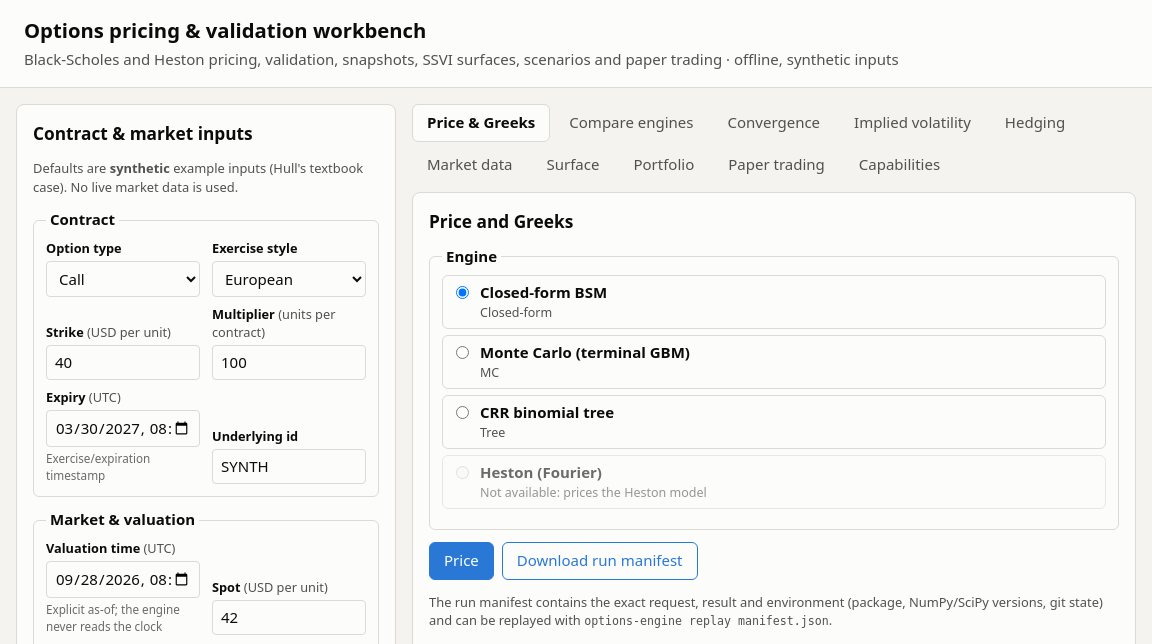
Test case: App › blocks submission on invalid input
The image size is (1152, 644).
Check: the text "Closed-form BSM" is shown, box [480,282,607,302]
Clear the field labelled "Strike (USD per unit)": x=123, y=362 [46,344,200,380]
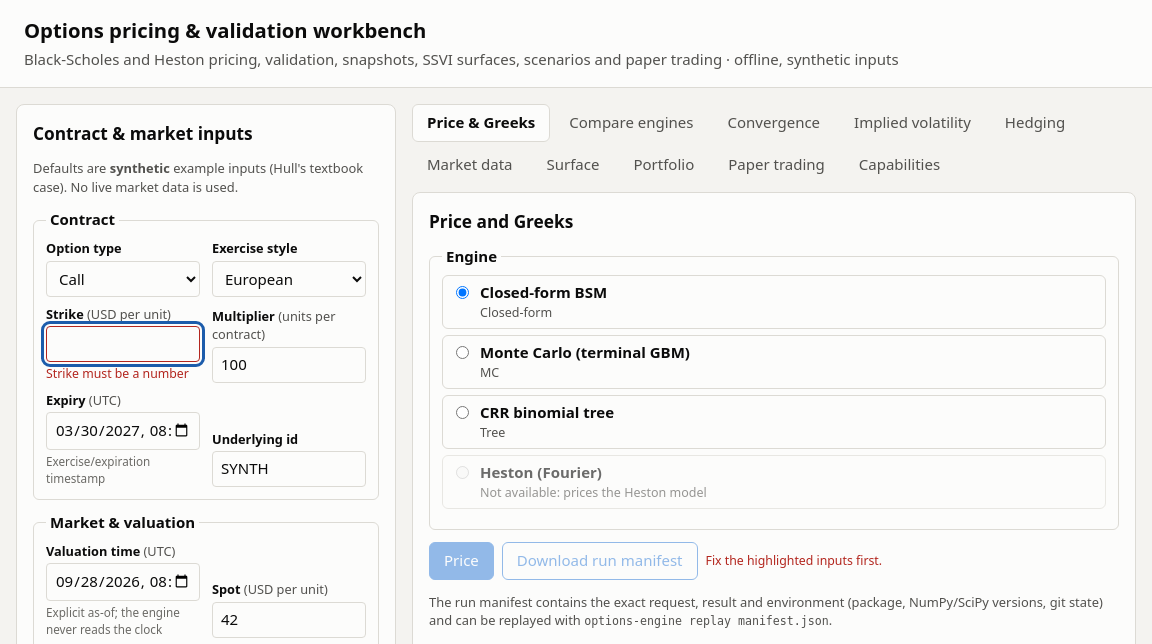
In the field labelled "Strike (USD per unit)": x=123, y=344 [46,326,200,362], type "-5"
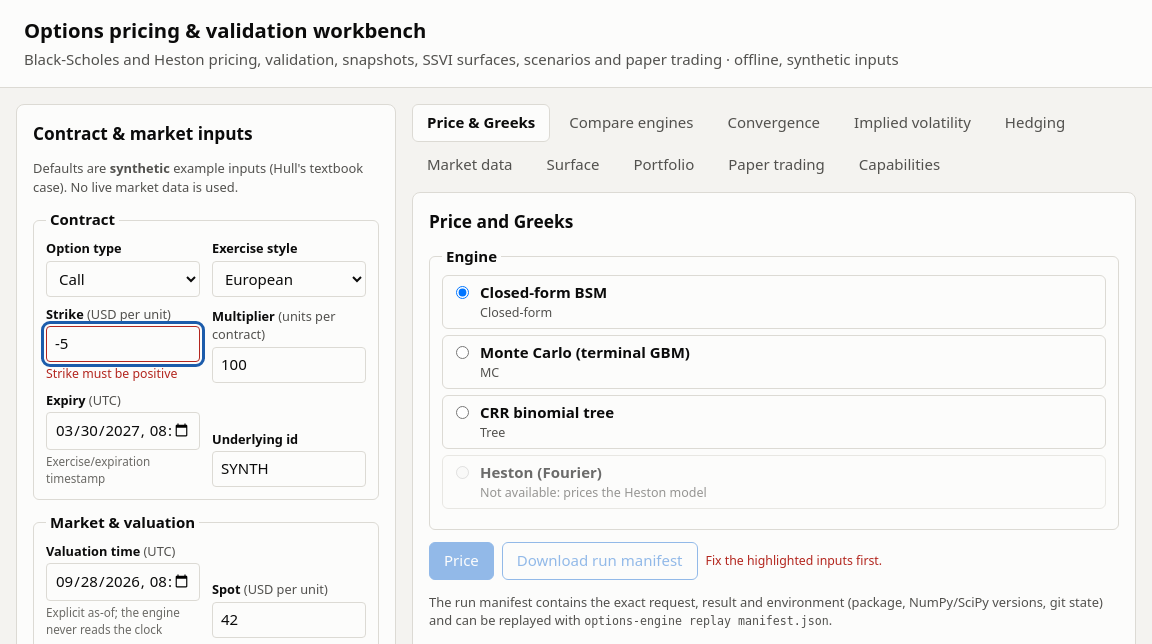
Check: the button "Price" is disabled, box [429,542,494,580]
Check: the text "Strike must be positive" is shown, box [46,365,200,383]
